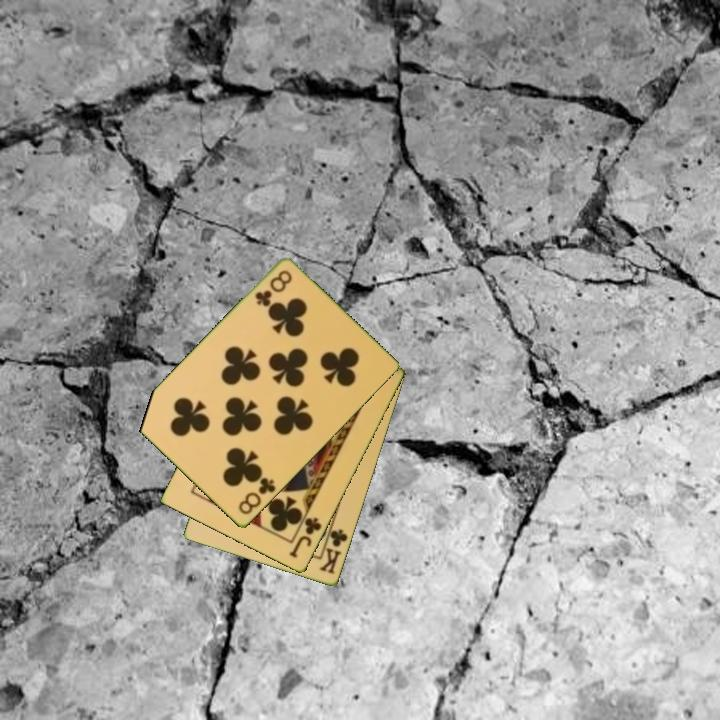8c: (235, 474, 279, 518), (251, 267, 295, 310)
Jc: (286, 514, 325, 561)
Kc: (316, 521, 351, 577)
